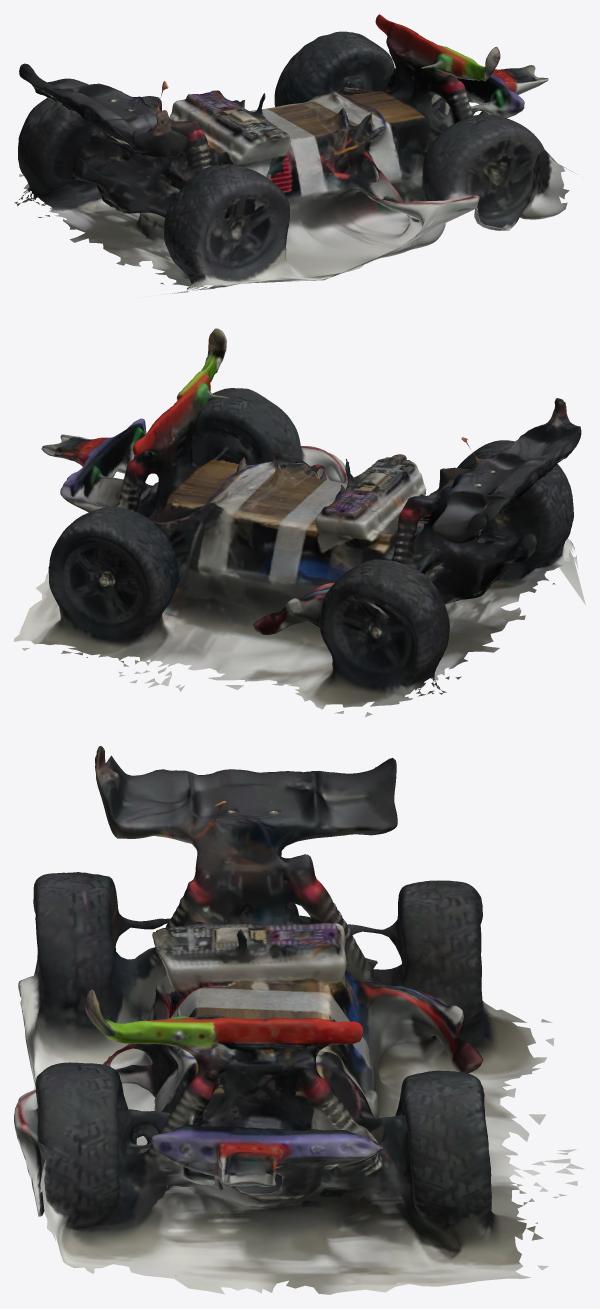
Rendered from utcarClean.glb.
3 renders of one model, top to bottom at view 1: azimuth 30°, elevation 25°; view 2: azimuth 150°, elevation 25°; view 3: azimuth 270°, elevation 25°, orthographic. The views are drawn at different scales.
Visible parts, largest first — view 1: 3DModel; view 2: 3DModel; view 3: 3DModel.
Part boxes in pixels (x1=…): 3DModel: x1=14, y1=14, x2=577, y2=296; 3DModel: x1=14, y1=328, x2=585, y2=716; 3DModel: x1=14, y1=746, x2=585, y2=1294.
Bounding box in the file's own units: 3.05 × 1.29 × 2.33.
1 material, 1 textured.
